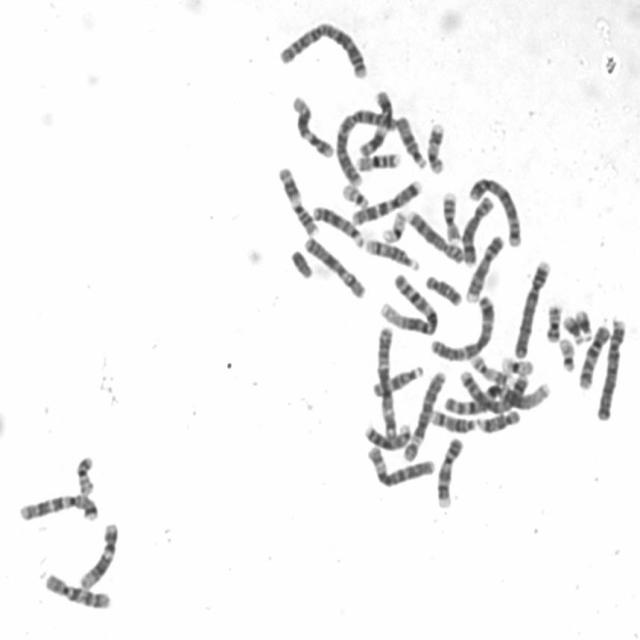A1: (439, 376, 552, 416), (376, 271, 440, 337)
A2: (332, 103, 400, 189), (275, 19, 370, 80)
A3: (428, 291, 494, 363), (373, 324, 399, 438)
B4: (510, 256, 552, 358), (593, 316, 627, 422)
B5: (467, 176, 522, 248), (458, 370, 528, 414)
C10: (41, 570, 113, 611), (575, 322, 612, 388)
C11: (274, 163, 320, 237), (356, 87, 396, 158)
C12: (76, 520, 120, 592), (288, 93, 336, 159)
C6: (399, 367, 447, 463), (362, 443, 436, 482)
C7: (347, 177, 423, 228), (15, 490, 100, 523)
C8: (404, 207, 465, 265), (459, 193, 495, 268)
C9: (462, 233, 505, 304), (434, 433, 466, 505)
D13: (311, 202, 364, 248), (367, 420, 412, 452)
D14: (362, 235, 420, 272), (429, 409, 484, 434)
D15: (393, 116, 427, 170), (370, 368, 426, 398)
E16: (440, 188, 462, 244), (353, 150, 403, 173)
E17: (467, 357, 511, 386), (425, 122, 446, 176)
E18: (422, 271, 463, 309), (478, 411, 521, 437)
F19: (379, 212, 409, 245), (498, 354, 534, 376)
F20: (72, 453, 101, 498), (542, 302, 562, 345)
G21: (561, 310, 590, 345), (572, 309, 594, 345)
G22: (339, 180, 366, 209), (556, 335, 576, 372)
X: (302, 234, 367, 300)
Y: (288, 247, 314, 280)
